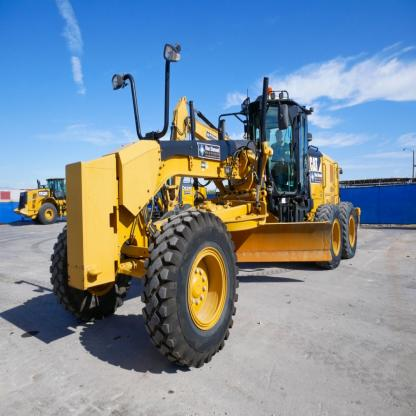bull_dozer/loader/grader: (41, 66, 380, 366)
